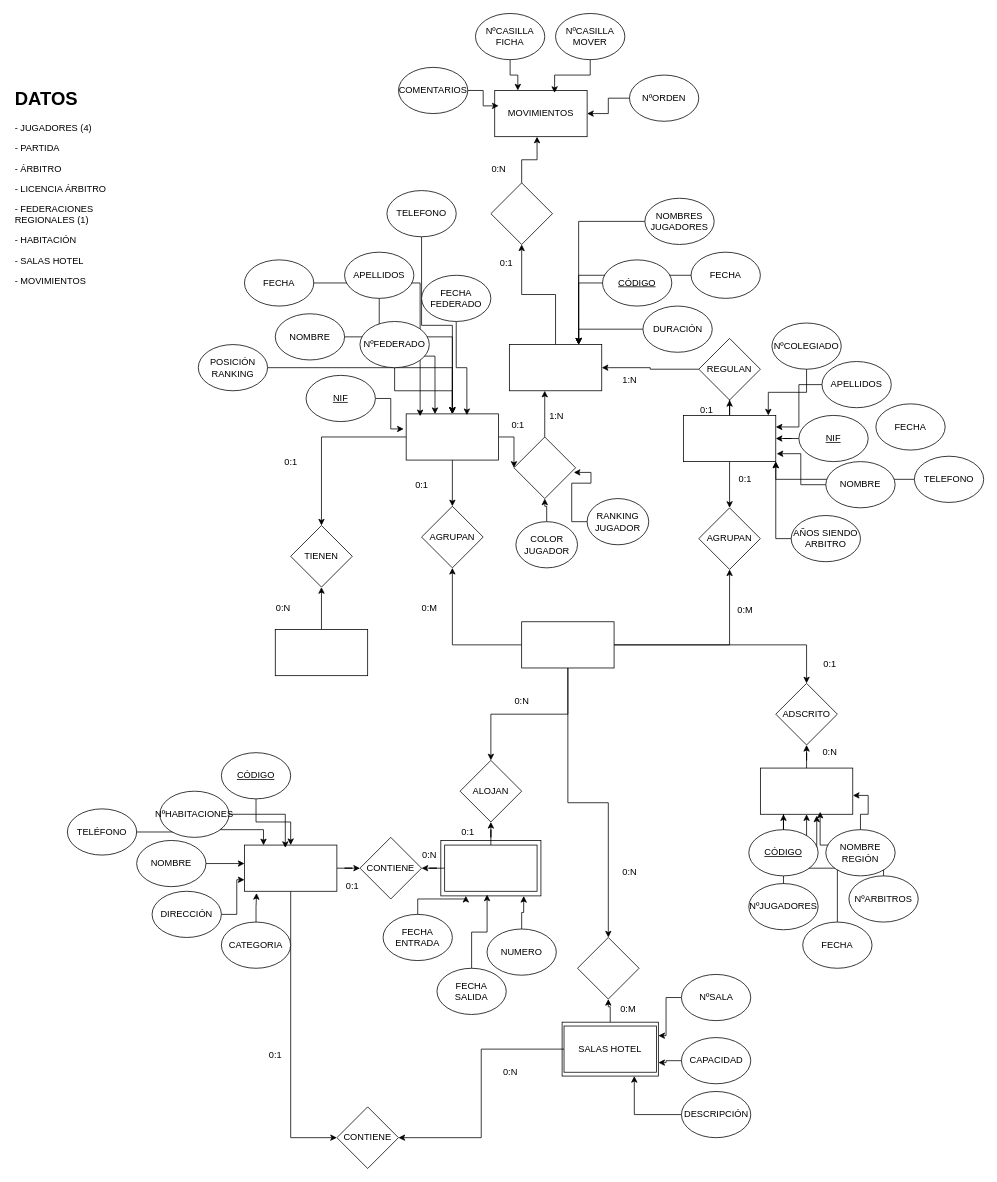
Image size: 997x1182. Some labels were removed from this diagram. Each missing label, with the centre of its shape:
FEDERACIONES NACIONALES: pixel 806 790
HABITACION: pixel 490 867
HOTEL: pixel 290 867
JUGADORES: pixel 452 436
JUGAR: pixel 544 467
LICENCIA: pixel 321 652
PARTIDA: pixel 555 367
PERSONAS: pixel 567 644
REALIZAN: pixel 521 213
RESERVAR: pixel 608 968
ÁRBITROS: pixel 729 438
